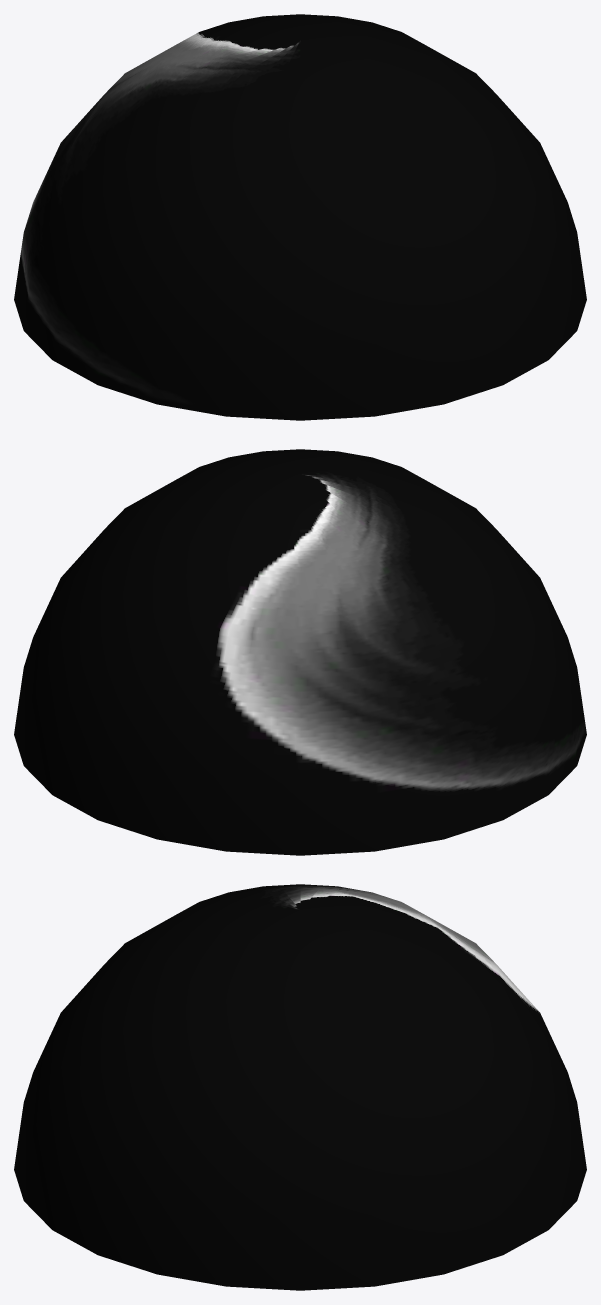
The model's file is 0267_daiouqixisi_ball01.glb.
3 views of the same model, one above another, from view 1: azimuth 30°, elevation 25°; view 2: azimuth 150°, elevation 25°; view 3: azimuth 270°, elevation 25° (orthographic).
Bounding box in the file's own units: 2.2 × 1.1 × 2.2.
1 material, 1 textured.
